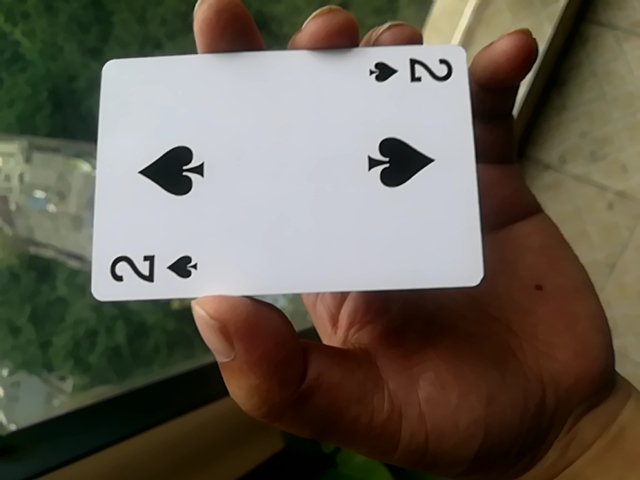ht 2: (90, 39, 481, 311)
